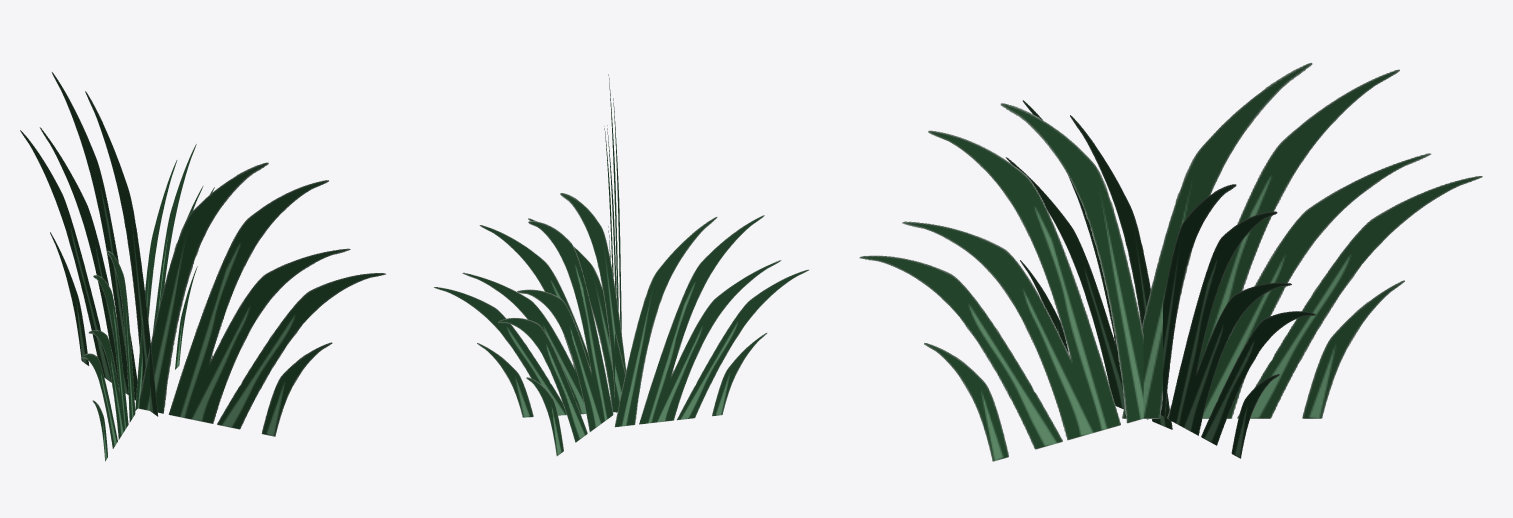
Rendered from Grass.fbx.
3 views of the same model, side by side, from view 1: azimuth 30°, elevation 25°; view 2: azimuth 150°, elevation 25°; view 3: azimuth 270°, elevation 25° (orthographic). The views are drawn at different scales.
Visible parts, largest first — view 1: pPlane3, pPlane1, pPlane7, pPlane4, pPlane5, pPlane2, pPlane8, pPlane6; view 2: pPlane4, pPlane1, pPlane2, pPlane5, pPlane8, pPlane6, pPlane3; view 3: pPlane3, pPlane1, pPlane7, pPlane2, pPlane5, pPlane4, pPlane6, pPlane8.
Part boxes in pixels (x1,y1,x2,y2): pPlane3: (138,162,385,436); pPlane1: (20,72,158,416); pPlane7: (140,164,383,436); pPlane4: (81,250,135,461); pPlane5: (40,75,158,415); pPlane2: (135,144,214,410); pPlane8: (87,252,134,459); pPlane6: (136,146,202,407); pPlane4: (614,215,808,427); pPlane1: (498,193,626,456); pPlane2: (434,218,625,417); pPlane5: (501,194,625,455); pPlane8: (615,216,806,426); pPlane6: (438,218,624,417); pPlane3: (604,74,622,358); pPlane3: (859,103,1143,461); pPlane1: (1122,62,1482,418); pPlane7: (860,105,1143,461); pPlane2: (1160,184,1315,458); pPlane5: (1122,63,1481,418); pPlane4: (1005,100,1172,429); pPlane6: (1162,186,1314,458); pPlane8: (1007,104,1171,429).
Bounding box in the file's own units: 2.31 × 2.46 × 3.62.
